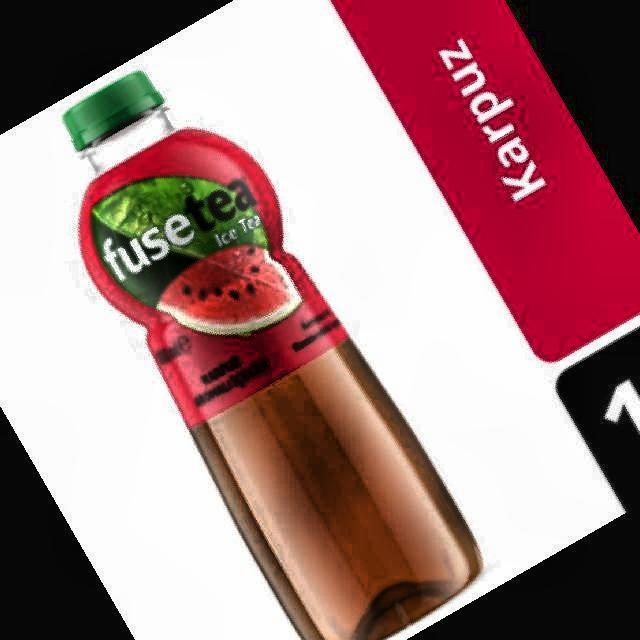plastic: (64, 70, 480, 640)
